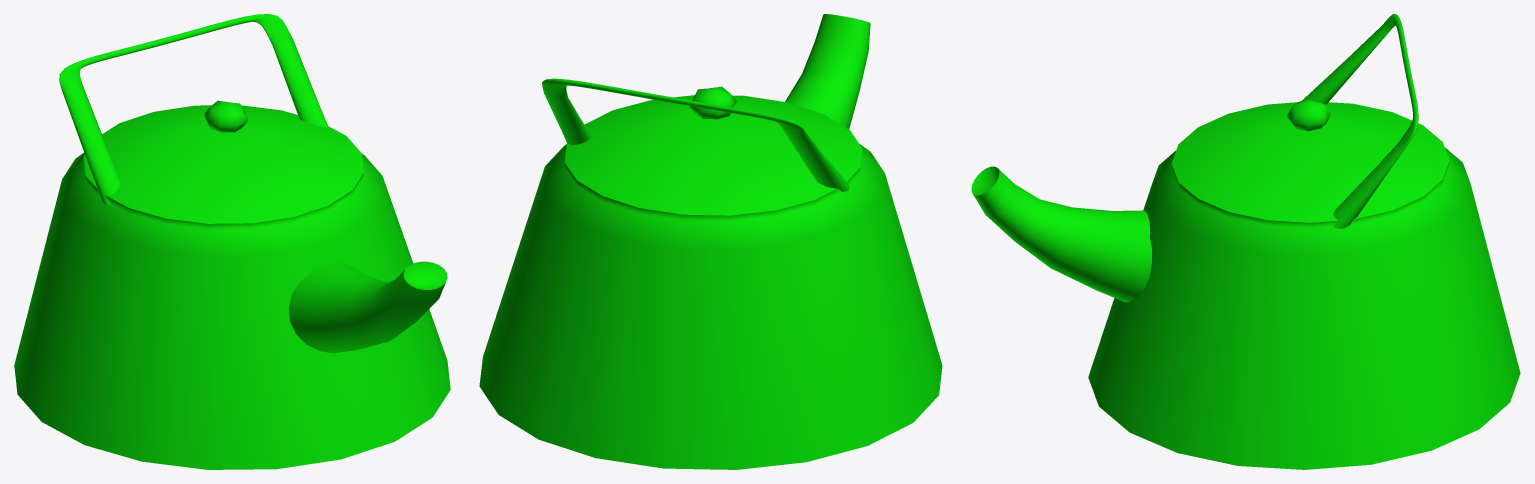
Rendered from TeaPot.fbx.
3 renders of one model, left to right at view 1: azimuth 30°, elevation 25°; view 2: azimuth 150°, elevation 25°; view 3: azimuth 270°, elevation 25°, orthographic. The views are drawn at different scales.
Parts seen in each view (by area): view 1: pCylinder8, faucet1, Pipe1, pCube33; view 2: pCylinder8, faucet1, Pipe1, pCube33; view 3: pCylinder8, faucet1, Pipe1, pCube33.
Boxes of the visible parts, x1,y1,x2,y2 form: pCylinder8: [14, 105, 450, 469]; faucet1: [288, 261, 447, 353]; Pipe1: [59, 14, 327, 205]; pCube33: [203, 100, 248, 132]; pCylinder8: [479, 95, 942, 469]; faucet1: [785, 14, 870, 129]; Pipe1: [542, 78, 849, 191]; pCube33: [689, 86, 736, 119]; pCylinder8: [1088, 102, 1520, 469]; faucet1: [971, 166, 1151, 302]; Pipe1: [1302, 14, 1418, 228]; pCube33: [1287, 98, 1330, 131].
Size of the model in its own units: 35.52 by 27.57 by 44.58.
